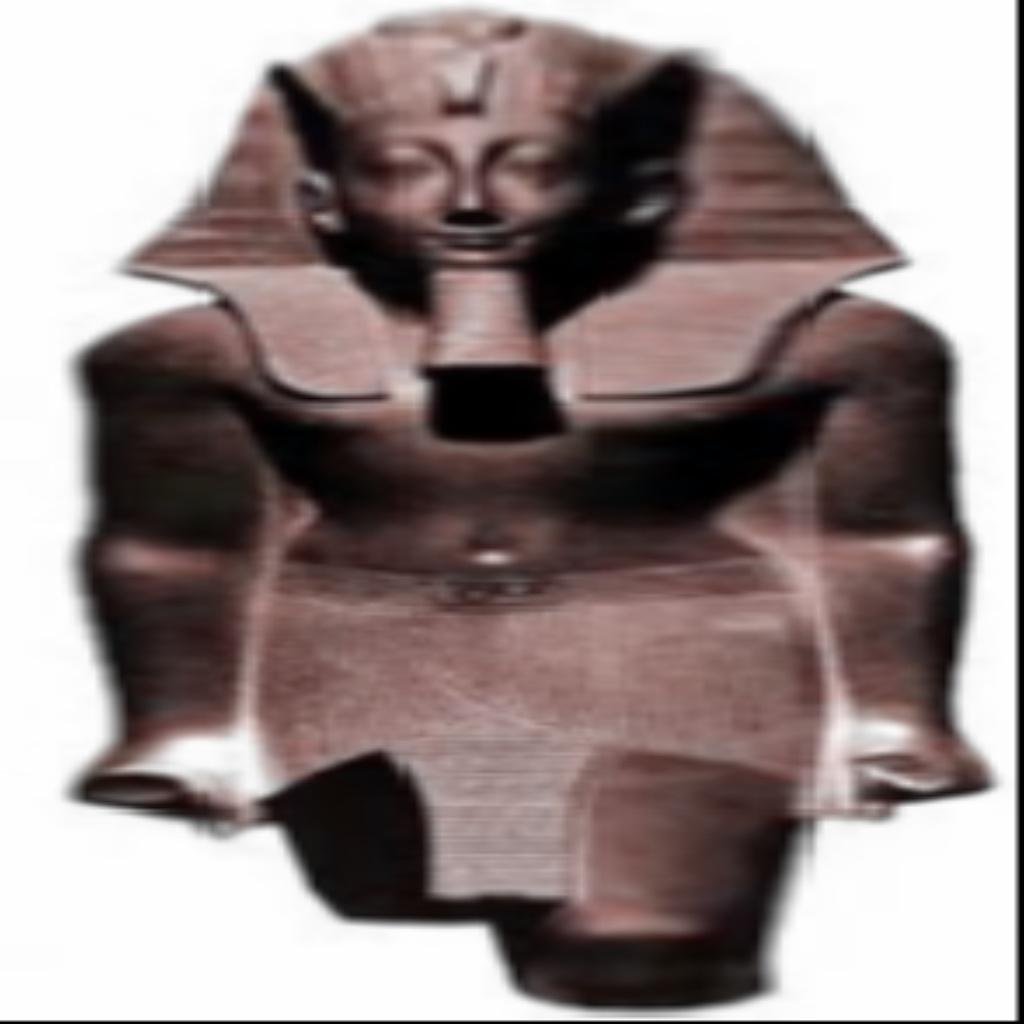King Thutmose III: (56, 3, 996, 1015)
